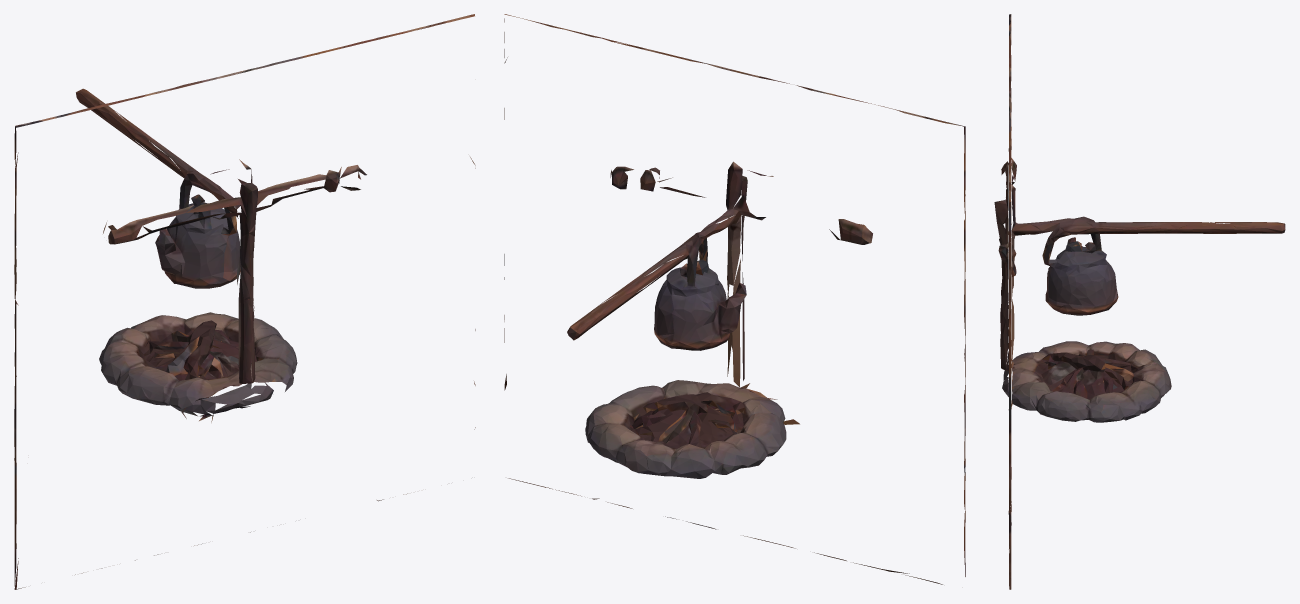
File: campfire.glb
3 renders of one model, left to right at view 1: azimuth 30°, elevation 25°; view 2: azimuth 150°, elevation 25°; view 3: azimuth 270°, elevation 25°, orthographic. The views are drawn at different scales.
Visible parts, largest first — view 1: geometry_0; view 2: geometry_0; view 3: geometry_0.
Boxes of the visible parts, x1,y1,x2,y2 form: geometry_0: (14, 14, 475, 589); geometry_0: (504, 14, 965, 584); geometry_0: (994, 14, 1285, 589).
Size of the model in its own units: 2 by 1.92 by 1.31.
Materials: 1 (1 with a texture image).
